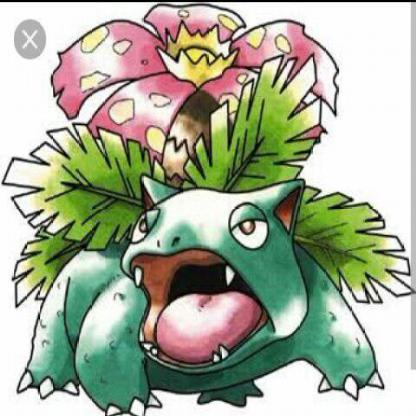Venusaur: (1, 1, 416, 416)
